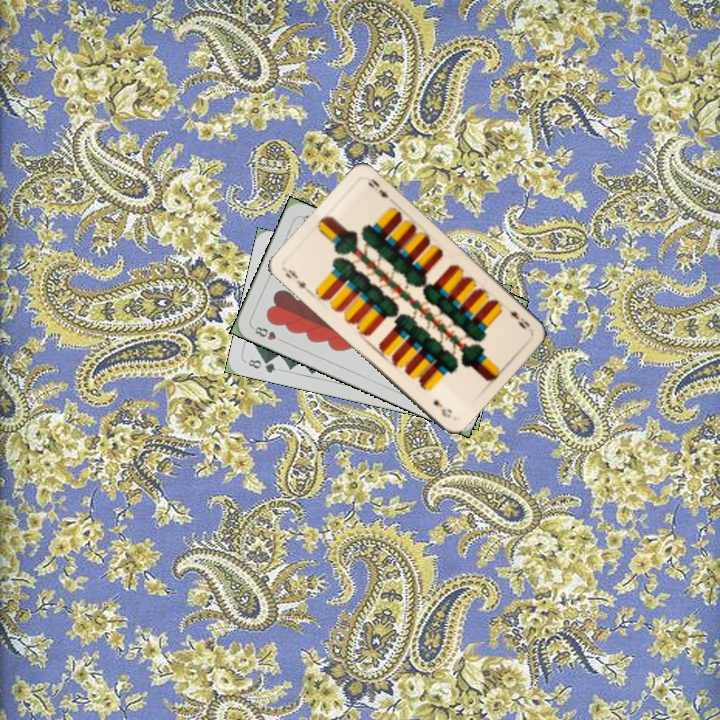E9: (281, 265, 313, 294), (505, 307, 533, 332)
G8: (244, 355, 278, 376)
H8: (249, 322, 287, 345)
